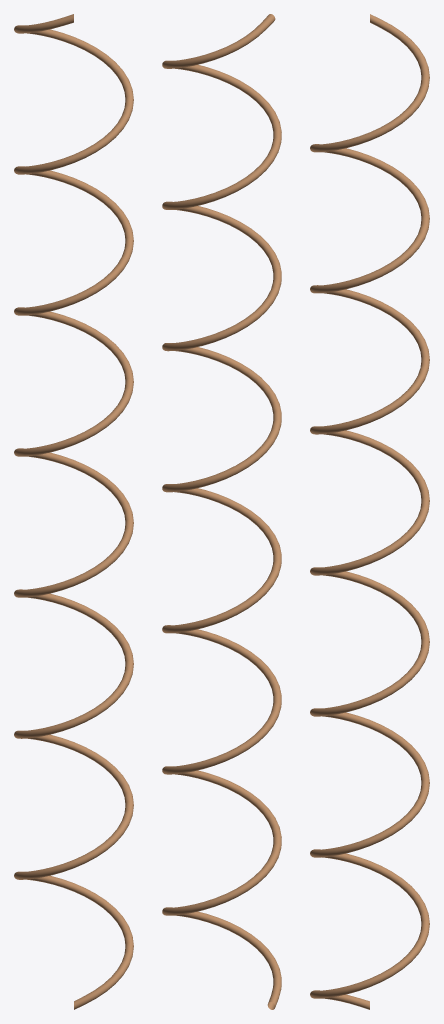
Rendered from spring.glb.
The picture shows the model from 3 angles, left to right: view 1: azimuth 90°, elevation 25°; view 2: azimuth 150°, elevation 25°; view 3: azimuth 270°, elevation 25°; orthographic projection.
Parts seen in each view (by area): view 1: BezierCircle; view 2: BezierCircle; view 3: BezierCircle.
Part boxes in pixels (x1,y1,x2,y2): BezierCircle: [14, 14, 133, 1009]; BezierCircle: [162, 14, 281, 1009]; BezierCircle: [310, 14, 429, 1009].
Size of the model in its own units: 0.8087 by 7.31 by 0.7983.
